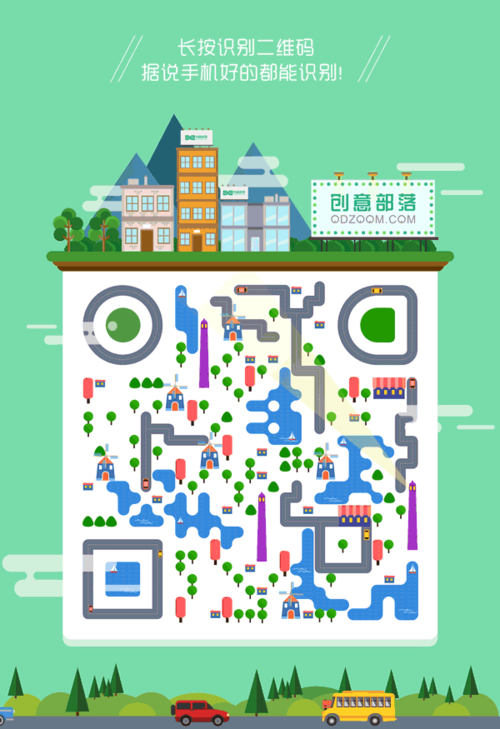QRCode: (74, 280, 426, 629)
